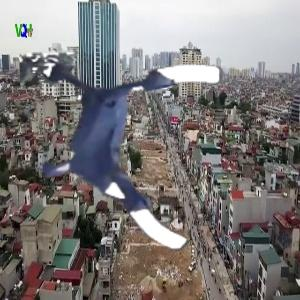drone: (23, 50, 229, 256)
